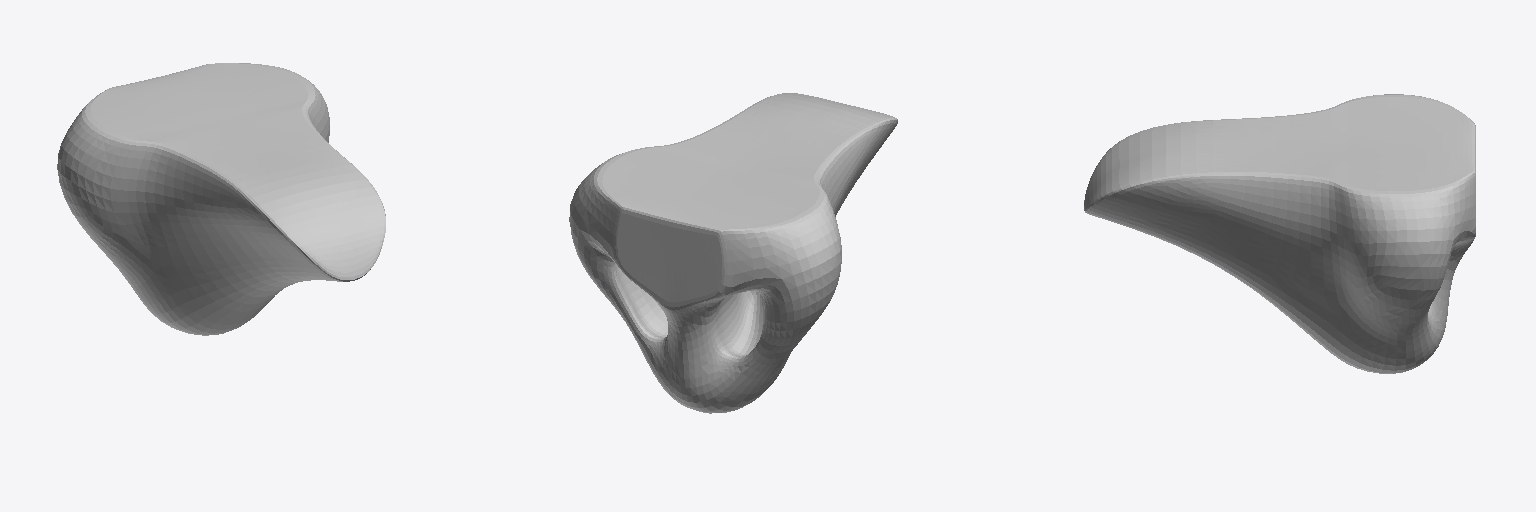
File: nose.obj
3 renders of one model, left to right at view 1: azimuth 30°, elevation 25°; view 2: azimuth 150°, elevation 25°; view 3: azimuth 270°, elevation 25°, orthographic.
Visible parts, largest first — view 1: Object.1; view 2: Object.1; view 3: Object.1.
Part boxes in pixels (x1,y1,x2,y2): Object.1: (57, 63, 385, 335); Object.1: (569, 93, 897, 413); Object.1: (1084, 94, 1475, 373).
Bounding box in the file's own units: 82.46 × 68.86 × 109.